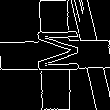M_W: (29, 32, 81, 78)
